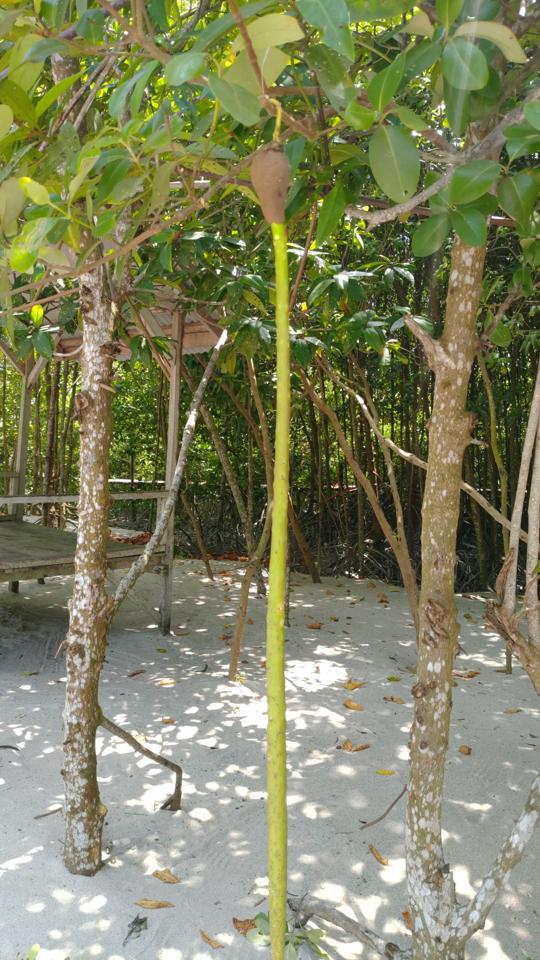mentah: (239, 138, 319, 956)
